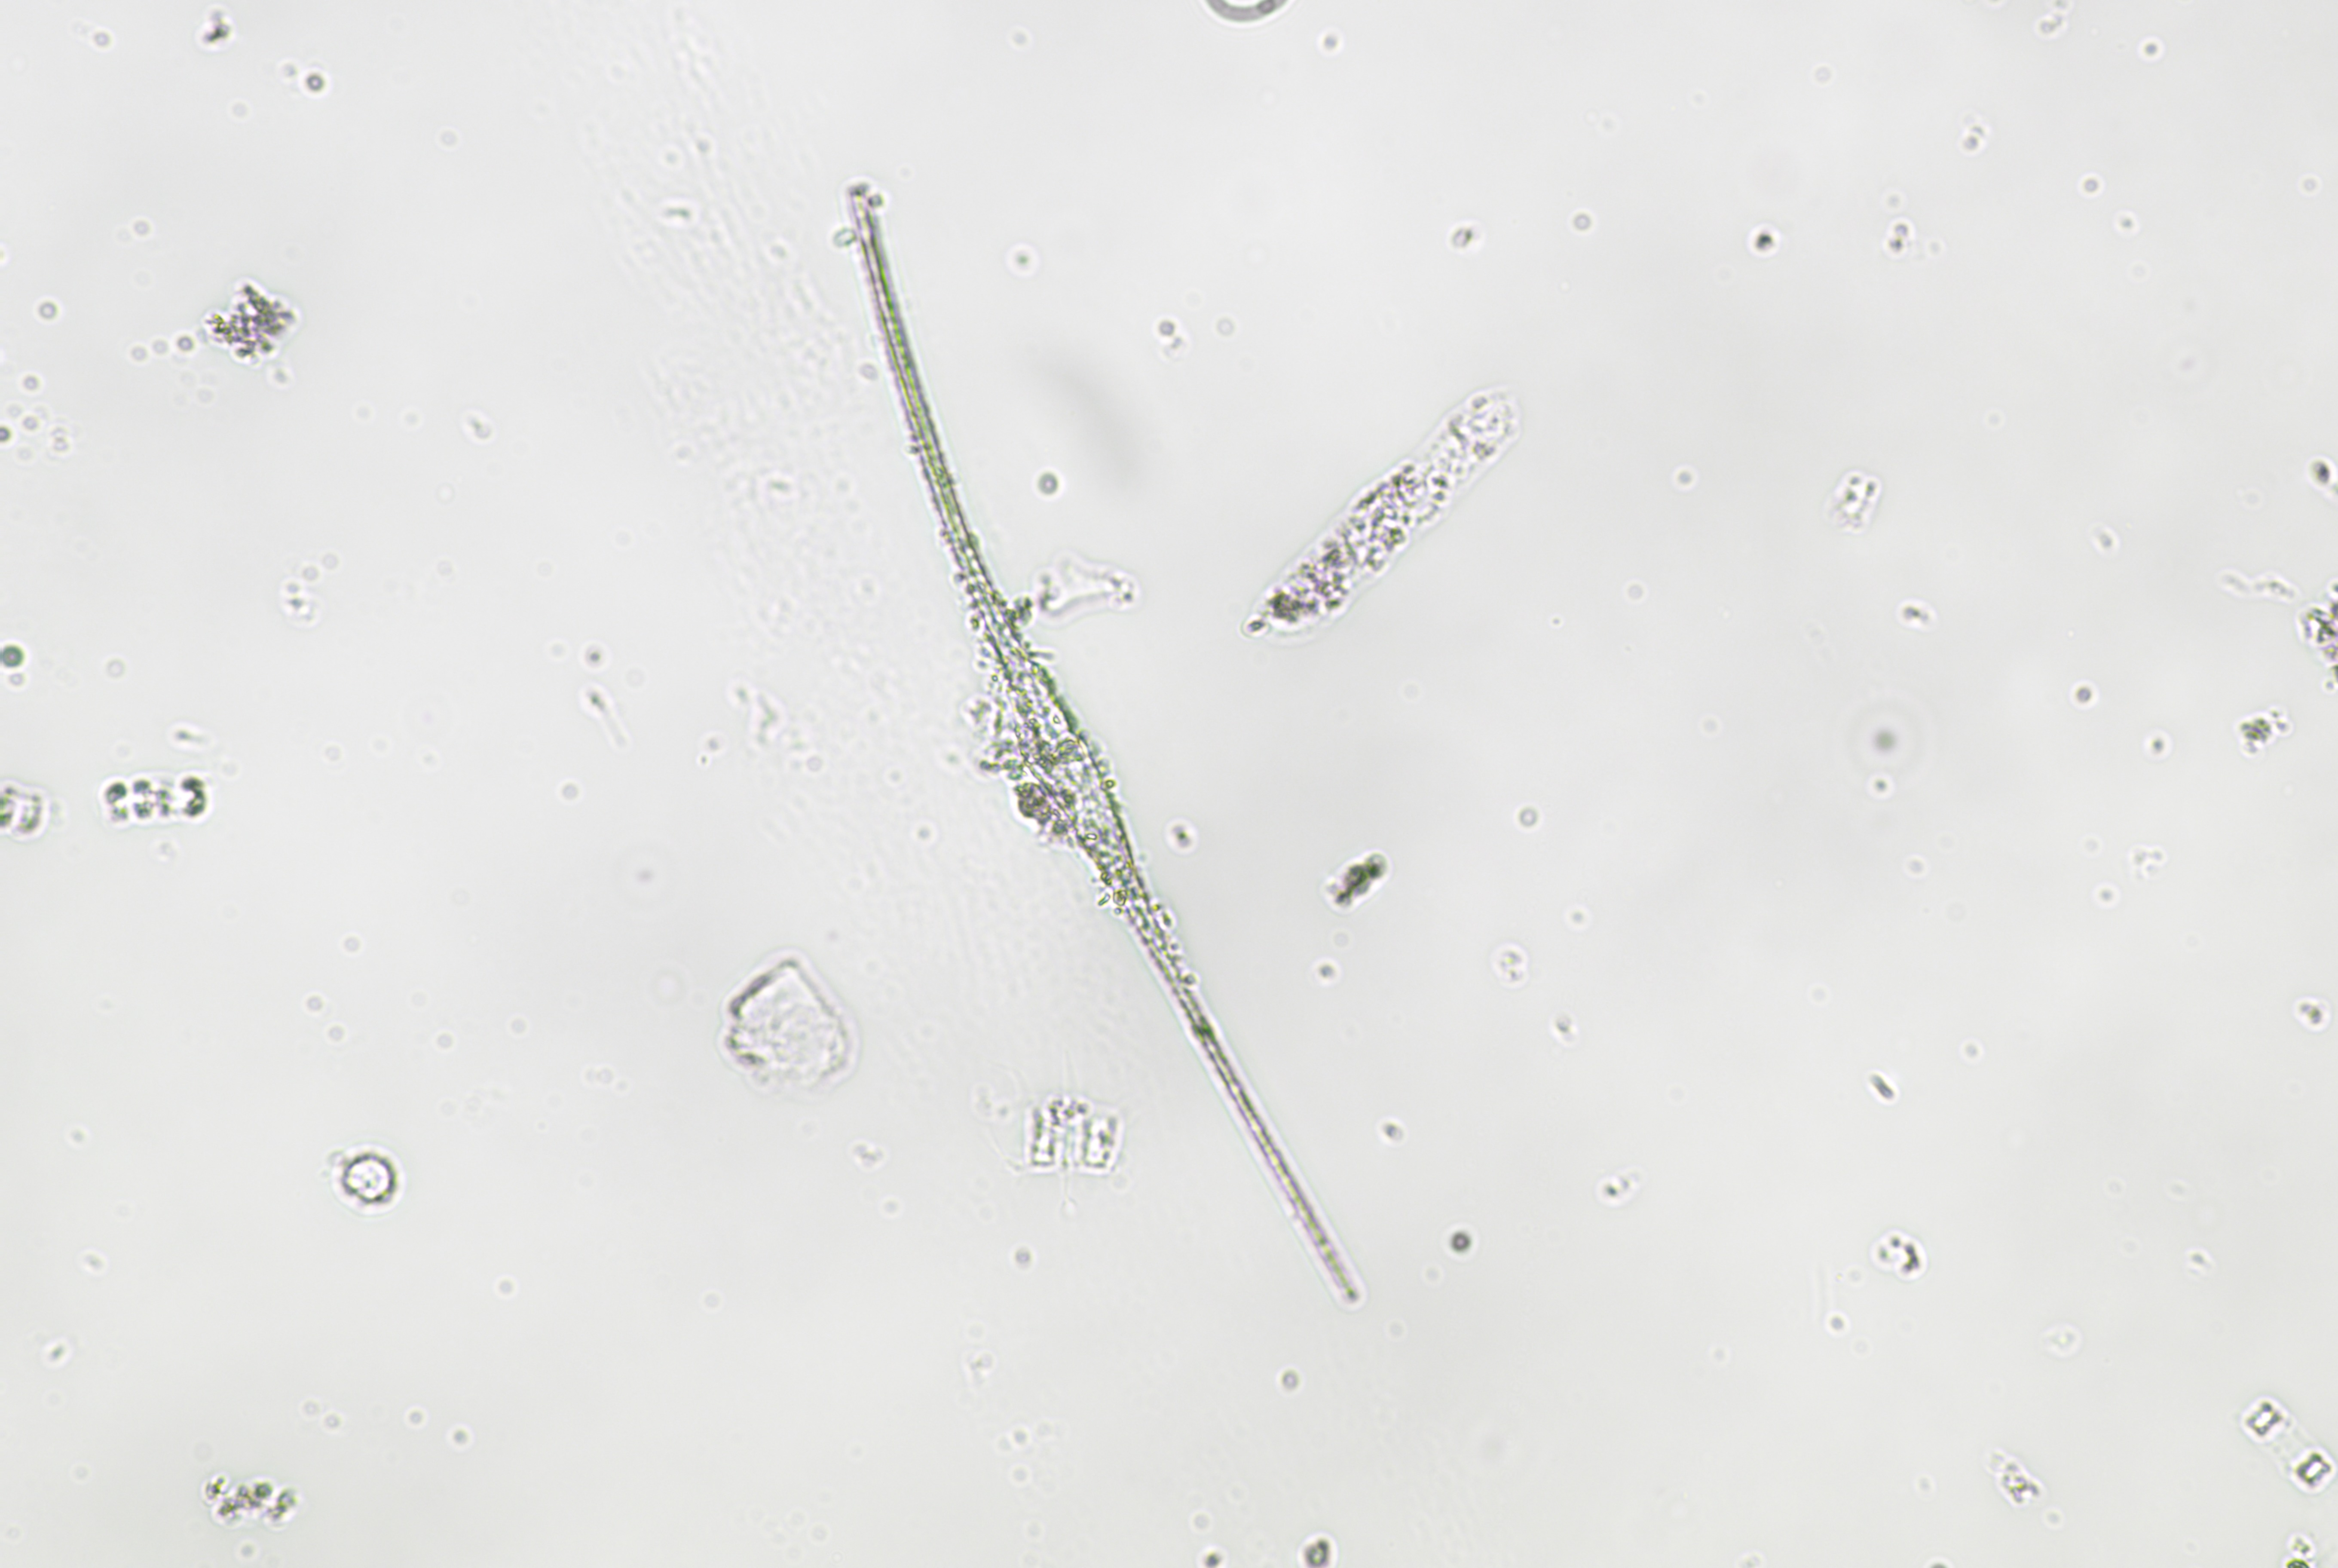ceratium fusus: (833, 170, 1382, 1321)
